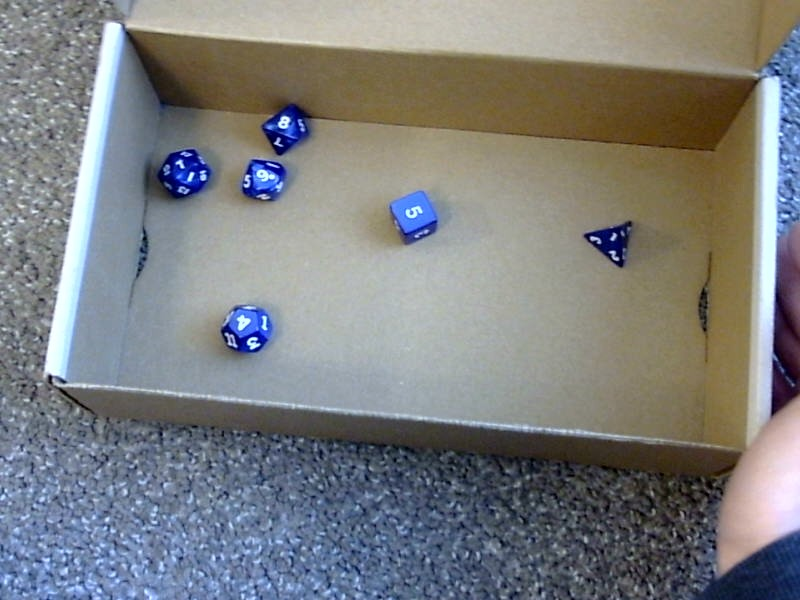d10 9: (237, 153, 286, 204)
d12 4: (212, 294, 275, 357)
d20 7: (153, 143, 213, 200)
d4 1: (578, 209, 633, 269)
d6 5: (382, 188, 439, 246)
d8 8: (256, 98, 313, 156)
